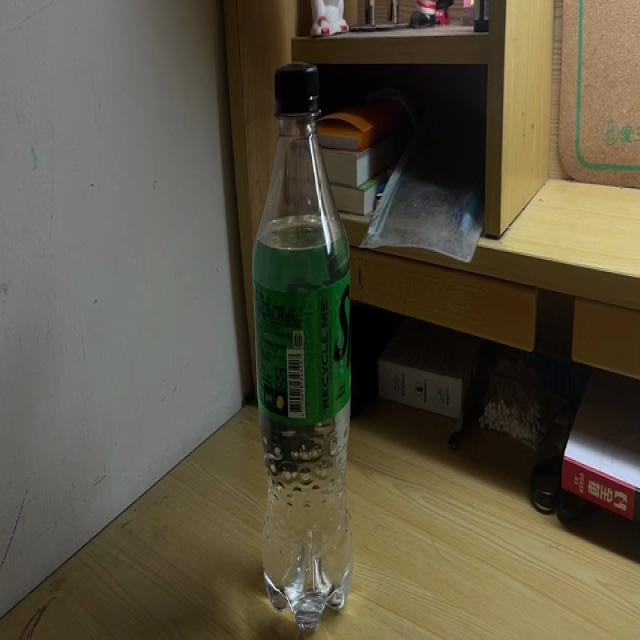Sprite: (252, 66, 353, 631)
